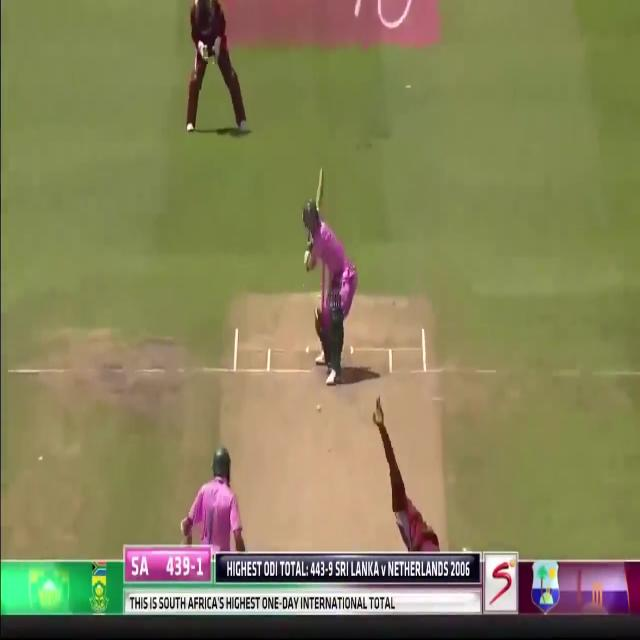Ball: (305, 197, 358, 379), (181, 448, 243, 565)
Fielder: (184, 0, 249, 132)
